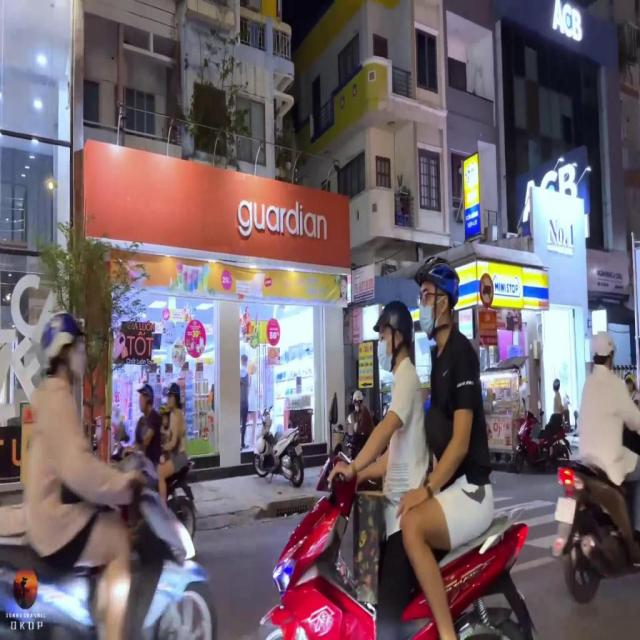cam_o_to_tai: (480, 272, 494, 308)
